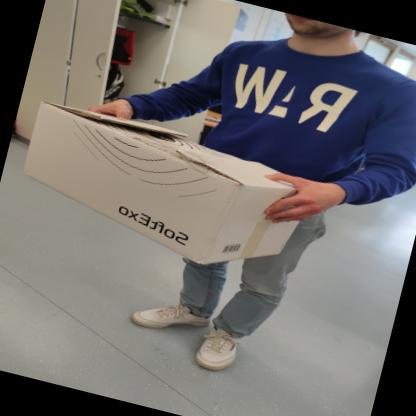box: (6, 91, 320, 288)
